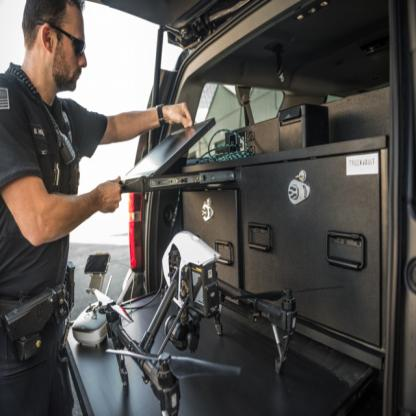drone: (81, 232, 349, 415)
